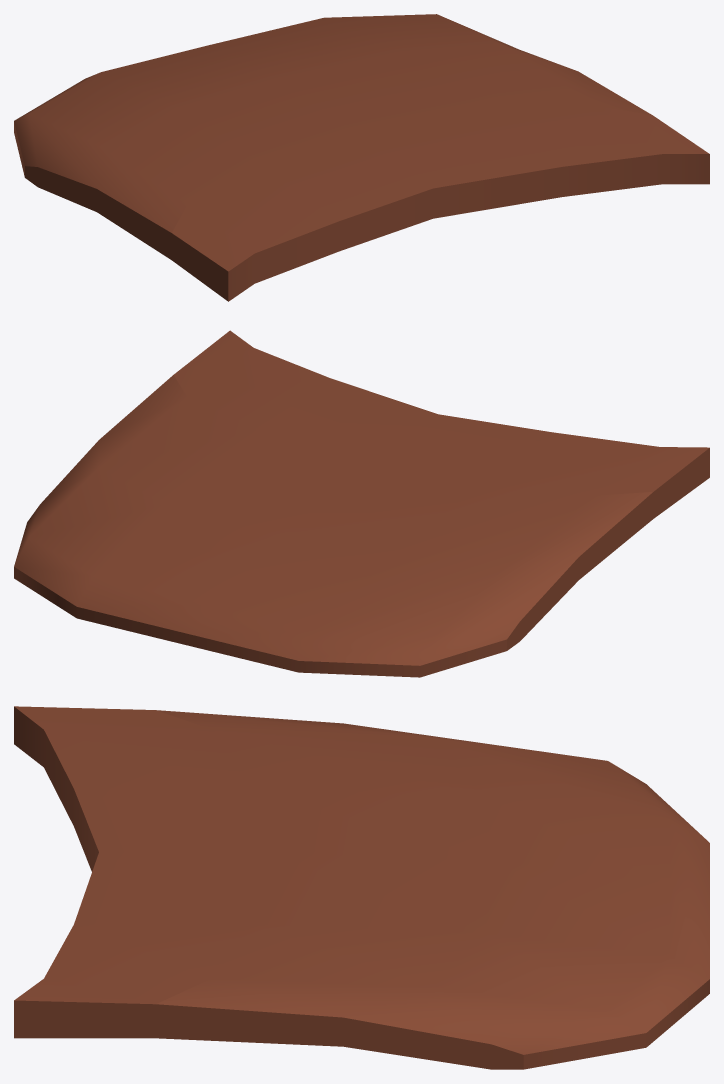
Rendered from RustyBonnet.fbx.
3 renders of one model, top to bottom at view 1: azimuth 30°, elevation 25°; view 2: azimuth 150°, elevation 25°; view 3: azimuth 270°, elevation 25°, orthographic. The views are drawn at different scales.
Visible parts, largest first — view 1: pCube1; view 2: pCube1; view 3: pCube1.
Boxes of the visible parts, bbox=[...] form: pCube1: bbox=[14, 14, 709, 301]; pCube1: bbox=[14, 330, 709, 677]; pCube1: bbox=[14, 706, 709, 1069].
Size of the model in its own units: 5 by 0.5478 by 5.
